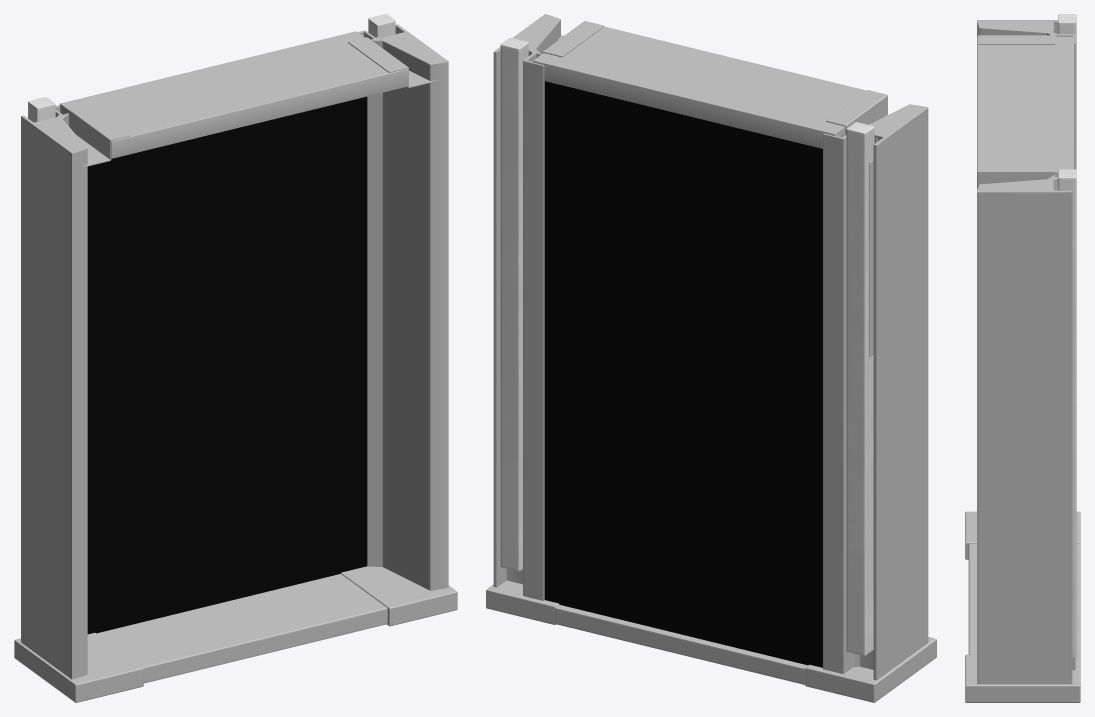
Rendered from SM_Kitchen_02_Drawer_01.obj.
The picture shows the model from 3 angles, left to right: view 1: azimuth 30°, elevation 25°; view 2: azimuth 150°, elevation 25°; view 3: azimuth 270°, elevation 25°; orthographic projection. The views are drawn at different scales.
Visible parts, largest first — view 1: SM_Kitchen_02_Drawer_01; view 2: SM_Kitchen_02_Drawer_01; view 3: SM_Kitchen_02_Drawer_01.
Part boxes in pixels (left/top/right/bottom): SM_Kitchen_02_Drawer_01: left=14, top=14, right=457, bottom=702; SM_Kitchen_02_Drawer_01: left=486, top=14, right=936, bottom=702; SM_Kitchen_02_Drawer_01: left=965, top=14, right=1080, bottom=702.
Bounding box in the file's own units: 0.362 × 0.5029 × 0.101.
3 materials, 1 textured.
